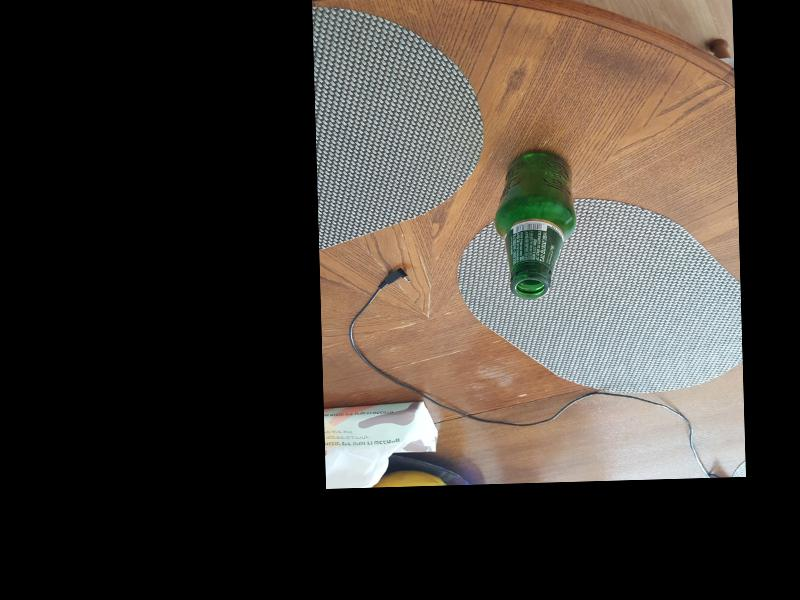Beer: (495, 149, 577, 301)
